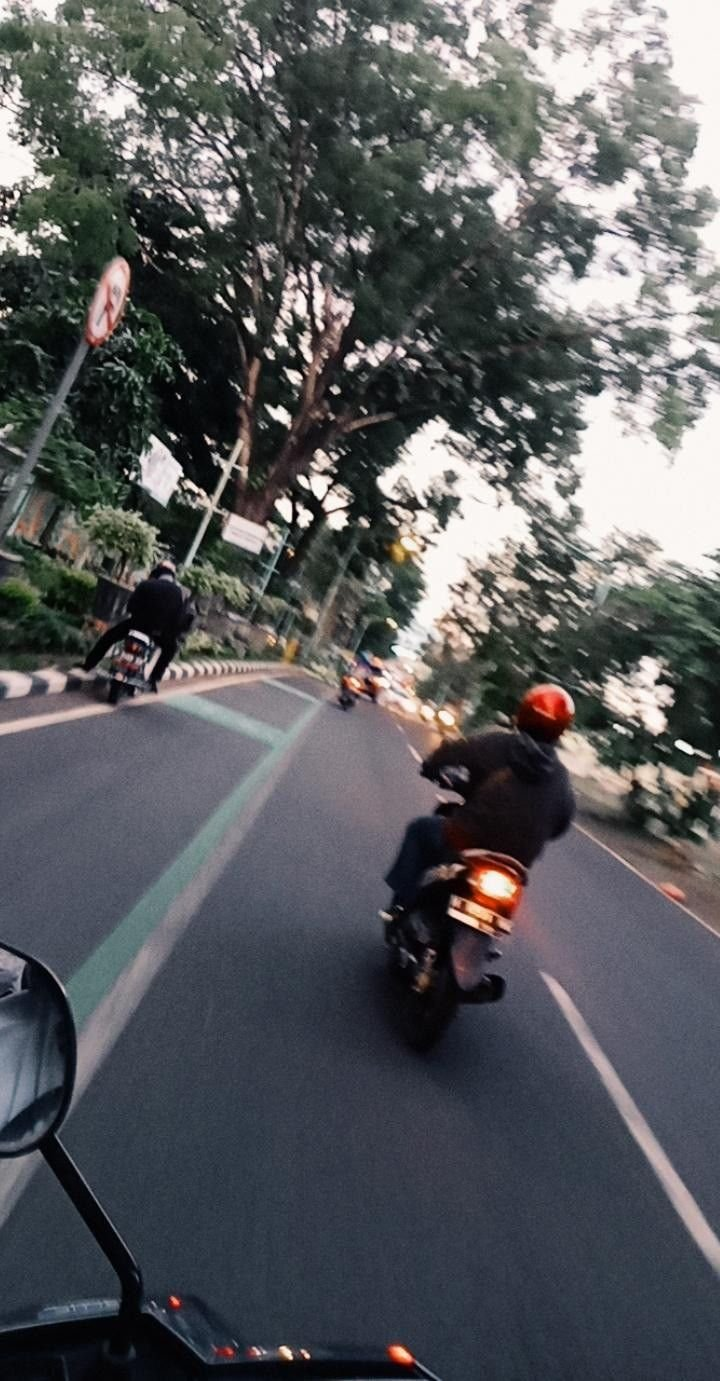motor: (405, 767, 528, 1042)
